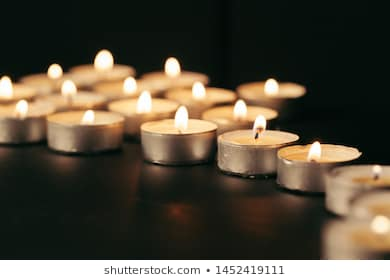Fire: (307, 133, 325, 168), (171, 103, 191, 134), (92, 47, 118, 70), (162, 52, 182, 77), (253, 111, 268, 140), (263, 76, 281, 99), (44, 60, 65, 79), (189, 79, 207, 101), (233, 96, 248, 121), (138, 89, 153, 114), (122, 75, 137, 96), (1, 73, 14, 97), (61, 80, 79, 97), (16, 96, 29, 117), (82, 107, 96, 124)
